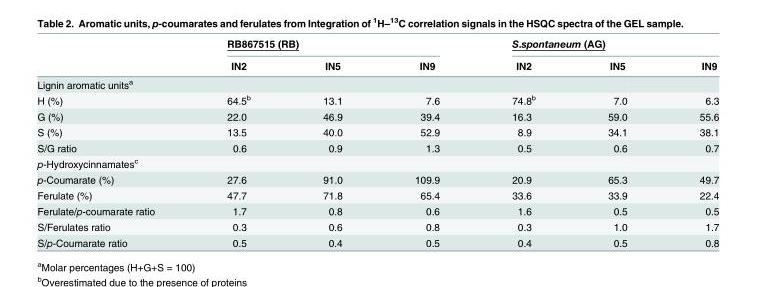table: (36, 36, 718, 248)
table column: (36, 36, 190, 248), (377, 36, 475, 248), (190, 36, 286, 248), (475, 36, 571, 248), (286, 36, 377, 248), (571, 36, 662, 248), (662, 36, 718, 248)
table column header: (36, 36, 718, 74)
table projected row header: (36, 74, 718, 91), (36, 154, 718, 171)
table row: (36, 54, 718, 74), (36, 36, 718, 54), (36, 74, 718, 91), (36, 91, 718, 108), (36, 154, 718, 171), (36, 123, 718, 139), (36, 171, 718, 187), (36, 202, 718, 218), (36, 218, 718, 234), (36, 108, 718, 123), (36, 139, 718, 154), (36, 187, 718, 202), (36, 234, 718, 248)
table spanning cell: (190, 36, 475, 54), (475, 36, 718, 54)
